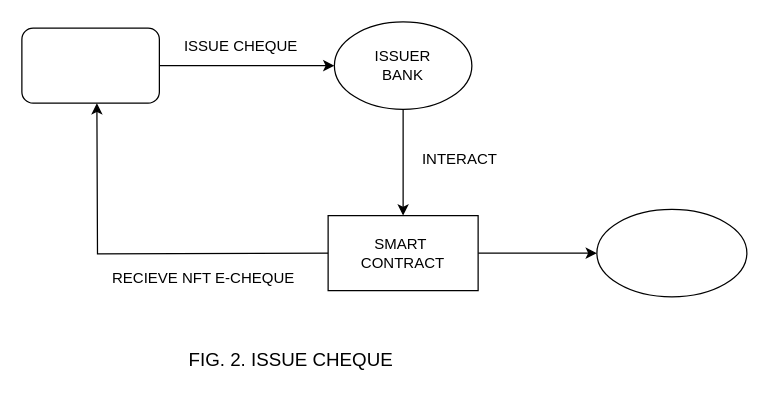
Some shapes in this 769 by 400 pixel diagram are drawn without their labels. The centre of each missing label's shape, as x and y in pixels:
NFT GENERATE: pixel 671 252
USER (Drawer): pixel 90 65
